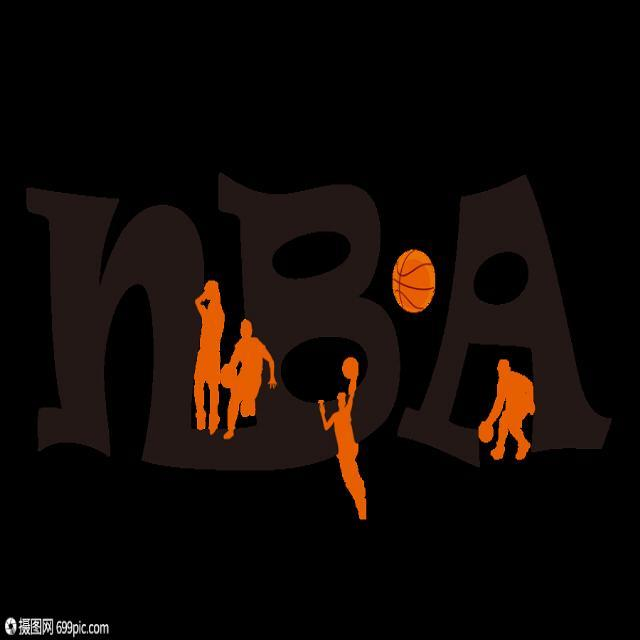rim: (393, 248, 435, 314)
